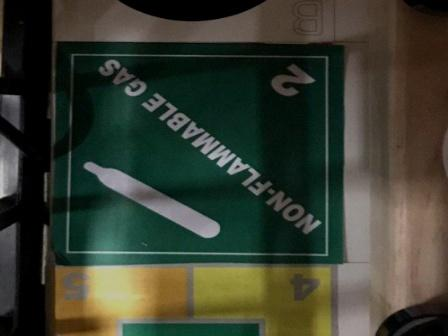non-flammable-gas: (56, 44, 341, 262)
